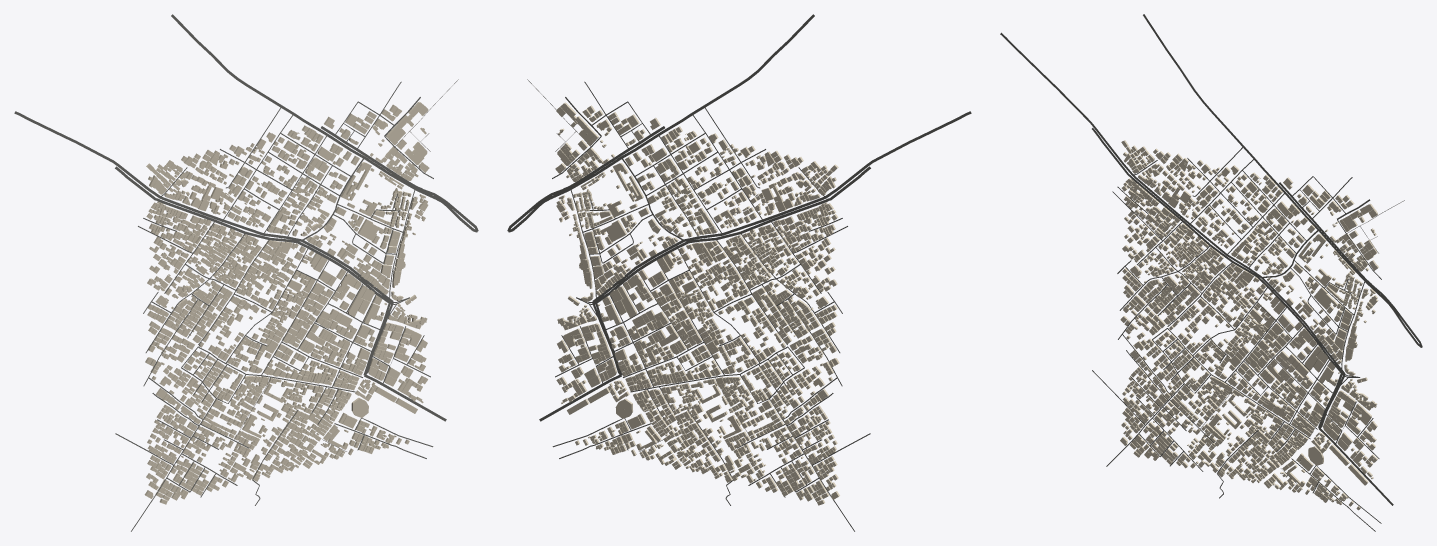
File: historic-palestine-03_21_3445_3150.glb
3 renders of one model, left to right at view 1: azimuth 30°, elevation 25°; view 2: azimuth 150°, elevation 25°; view 3: azimuth 330°, elevation 25°, orthographic. The views are drawn at different scales.
Visible parts, largest first — view 1: Road شارع جمال عبد الناصر, Road شارع عمر المختار.001, Road شارع جمال عبد الناصر.001, Road شارع عمر المختار; view 2: Road شارع جمال عبد الناصر, Road شارع عمر المختار.001, Road شارع جمال عبد الناصر.001, Road شارع عمر المختار; view 3: Road شارع جمال عبد الناصر, Road شارع عمر المختار.001, Road شارع جمال عبد الناصر.001, Road شارع عمر المختار.
Part boxes in pixels (bbox=[...]): Road شارع جمال عبد الناصر: bbox=[14, 111, 393, 302]; Road شارع عمر المختار.001: bbox=[171, 14, 477, 232]; Road شارع جمال عبد الناصر.001: bbox=[115, 166, 392, 304]; Road شارع عمر المختار: bbox=[321, 126, 478, 231]; Road شارع جمال عبد الناصر: bbox=[592, 111, 971, 302]; Road شارع عمر المختار.001: bbox=[508, 14, 814, 232]; Road شارع جمال عبد الناصر.001: bbox=[593, 166, 870, 304]; Road شارع عمر المختار: bbox=[507, 126, 664, 231]; Road شارع جمال عبد الناصر: bbox=[1000, 32, 1345, 374]; Road شارع عمر المختار.001: bbox=[1143, 14, 1421, 347]; Road شارع جمال عبد الناصر.001: bbox=[1092, 128, 1343, 375]; Road شارع عمر المختار: bbox=[1279, 182, 1422, 347].
Size of the model in its own units: 1598 by 1685 by 20.19.
